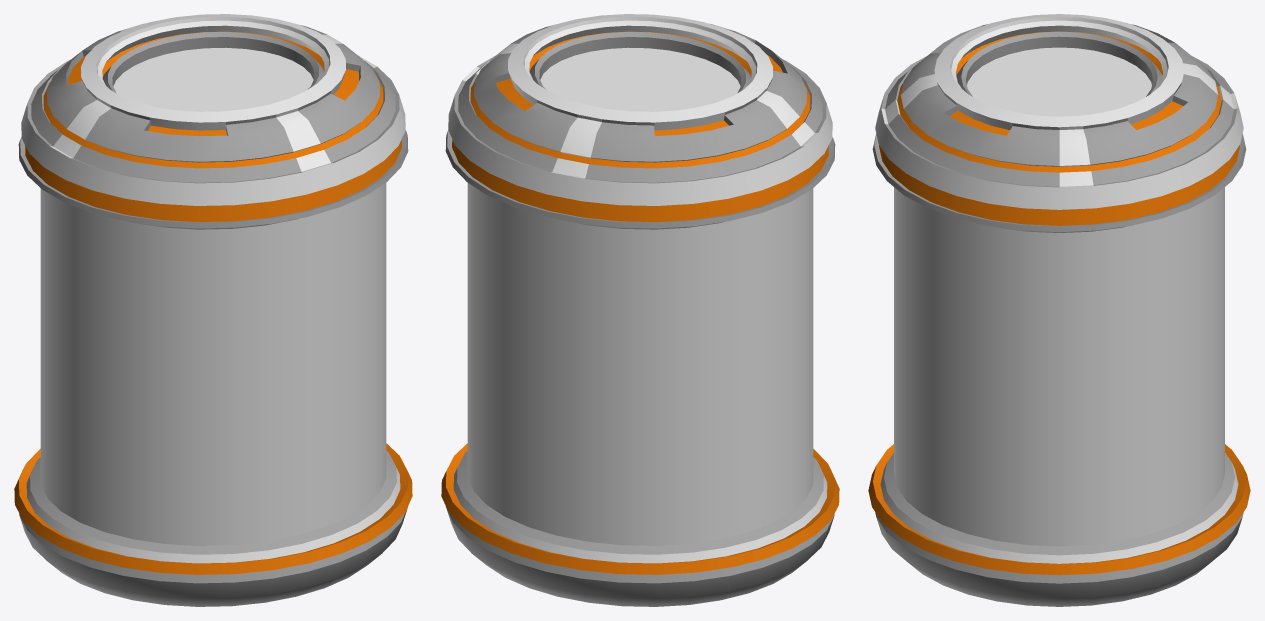
File: LargeEnemy.fbx
The picture shows the model from 3 angles, left to right: view 1: azimuth 30°, elevation 25°; view 2: azimuth 150°, elevation 25°; view 3: azimuth 270°, elevation 25°; orthographic projection.
Parts seen in each view (by area): view 1: LargeCylinder; view 2: LargeCylinder; view 3: LargeCylinder.
Boxes of the visible parts, bbox=[...] form: LargeCylinder: bbox=[14, 14, 412, 606]; LargeCylinder: bbox=[441, 14, 839, 606]; LargeCylinder: bbox=[868, 14, 1250, 606].
Size of the model in its own units: 24.03 by 31.3 by 22.95.
